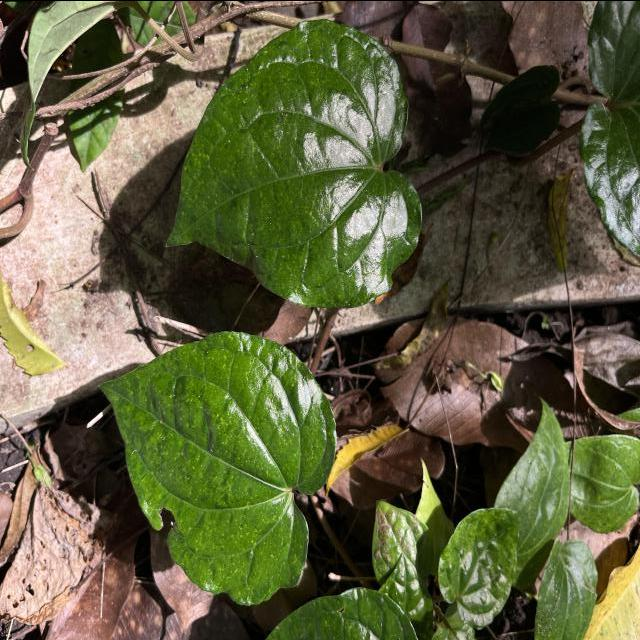Piper betle: (162, 14, 426, 312), (93, 326, 340, 609)
